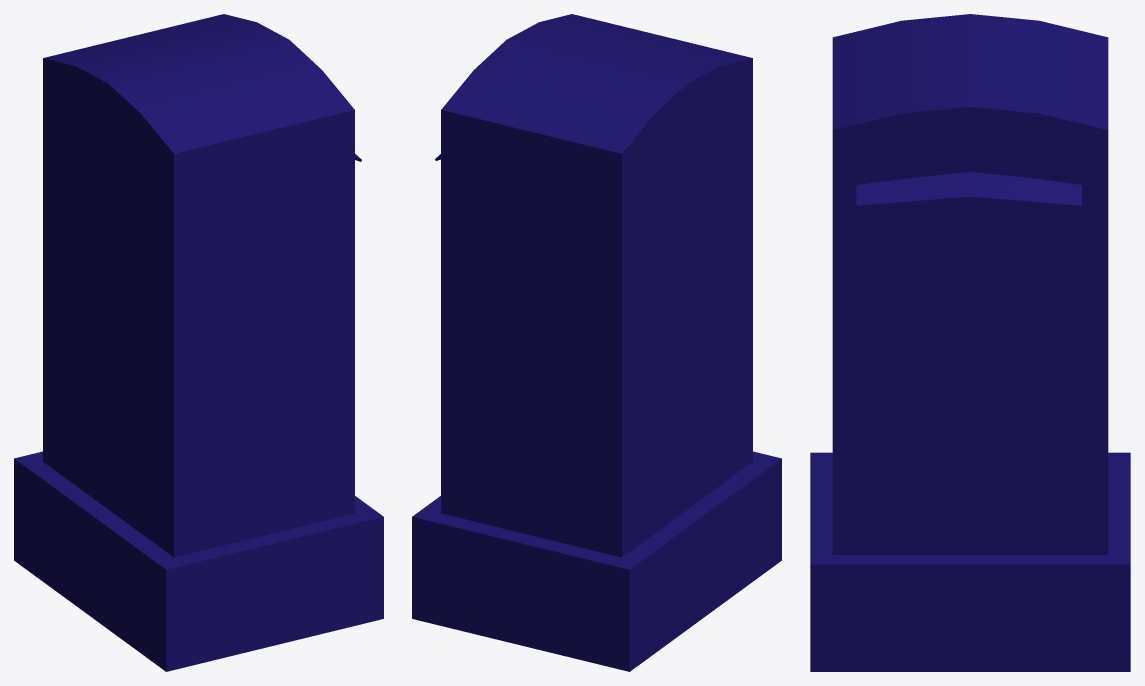
Rendered from BuzónTamano.fbx.
3 renders of one model, left to right at view 1: azimuth 30°, elevation 25°; view 2: azimuth 150°, elevation 25°; view 3: azimuth 270°, elevation 25°, orthographic. The views are drawn at different scales.
Parts seen in each view (by area): view 1: Cube; view 2: Cube; view 3: Cube.
Part boxes in pixels (box(x1,y1,x2,y2)): Cube: box(14, 14, 383, 671); Cube: box(412, 14, 781, 671); Cube: box(810, 14, 1130, 671).
Size of the model in its own units: 61.82 by 143 by 74.82.
